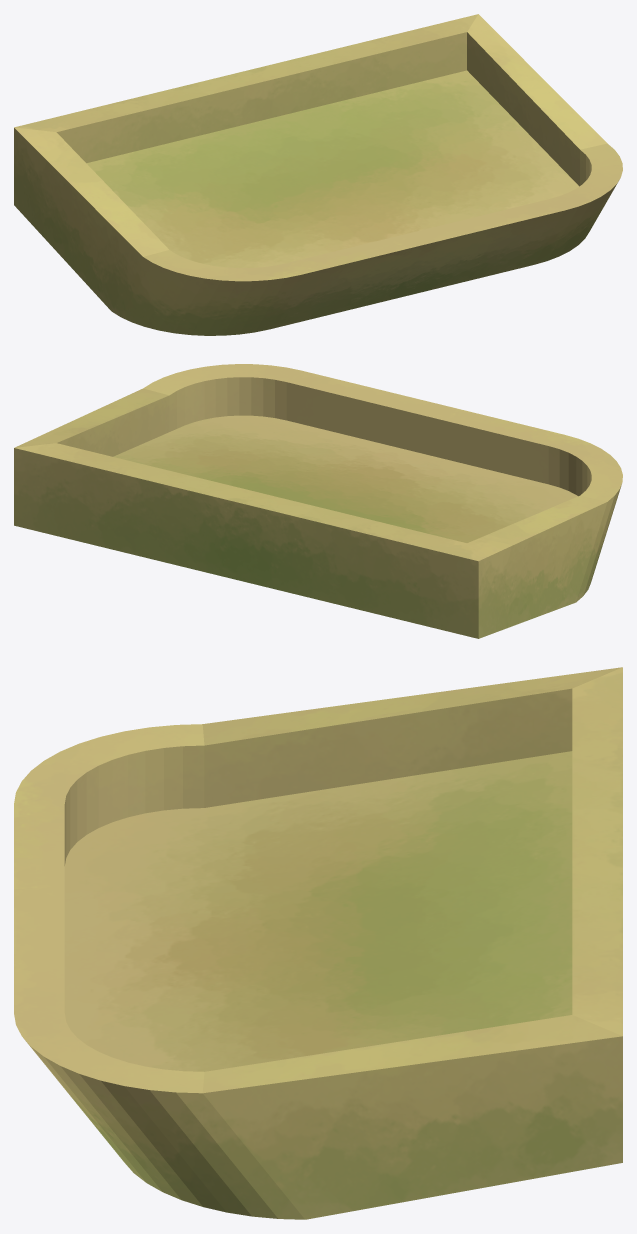
File: Sugar Glider Hangs.fbx
The picture shows the model from 3 angles, top to bottom: view 1: azimuth 30°, elevation 25°; view 2: azimuth 150°, elevation 25°; view 3: azimuth 270°, elevation 25°; orthographic projection. The views are drawn at different scales.
Parts seen in each view (by area): view 1: Cube; view 2: Cube; view 3: Cube.
Boxes of the visible parts, x1,y1,x2,y2 form: Cube: [14, 14, 622, 335]; Cube: [14, 364, 622, 638]; Cube: [14, 667, 622, 1219].
Size of the model in its own units: 200 by 46.36 by 139.
Materials: 1 (1 with a texture image).
